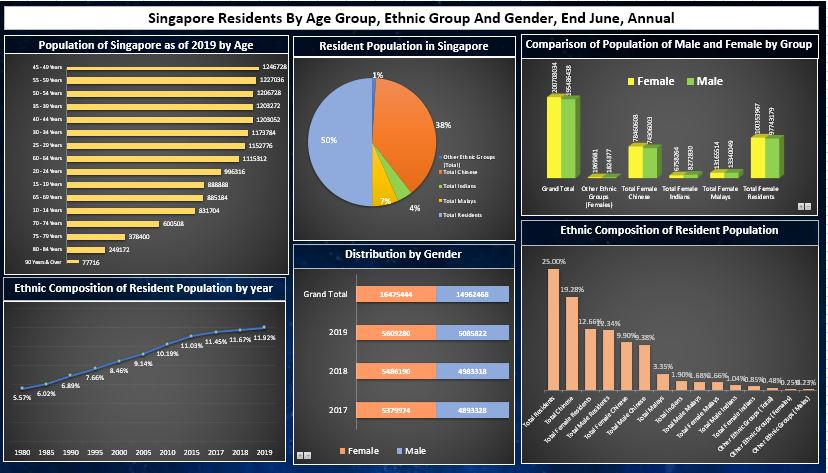

The dashboard page shown, as its layout file describes it:
{"tool":"powerbi","page":{"name":"Page 1","canvas":[1280,720],"ordinal":0},"visuals":[{"type":"hundredPercentStackedBarChart","fields":{"Category":["singapore-residents-by-ethnic-group-and-sex-end-june-annual.year"],"Y":["Sum(singapore-residents-by-ethnic-group-and-sex-end-june-annual.Count)"],"Series":["singapore-residents-by-ethnic-group-and-sex-end-june-annual.level_1 (groups)"]},"box":[217.4,535.7,354.2,184.3],"z":0},{"type":"textbox","box":[571.7,93.6,289.4,72],"z":1000},{"type":"pieChart","fields":{"Category":["singapore-residents-by-ethnic-group-and-sex-end-june-annual.level_1 (groups) 2"],"Y":["Sum(singapore-residents-by-ethnic-group-and-sex-end-june-annual.Count)"]},"box":[571,165,289.4,262.1],"z":2000},{"type":"textbox","box":[571.7,427.7,708.5,43.2],"z":3000},{"type":"barChart","fields":{"Category":["singapore-residents-by-ethnic-group-and-sex-end-june-annual.level_2"],"Y":["Sum(singapore-residents-by-ethnic-group-and-sex-end-june-annual.Count)"]},"box":[0,151.2,571.7,339.8],"z":4000},{"type":"stackedAreaChart","fields":{"Category":["singapore-residents-by-ethnic-group-and-sex-end-june-annual.year"],"Y":["Sum(singapore-residents-by-ethnic-group-and-sex-end-june-annual.Count)"]},"box":[571.7,470.9,708.5,249.1],"z":5000},{"type":"card","fields":{"Values":["Sum(singapore-residents-by-ethnic-group-and-sex-end-june-annual.Count)"]},"box":[0,491,217.4,229],"z":6000},{"type":"clusteredColumnChart","fields":{"Category":["singapore-residents-by-ethnic-group-and-sex-end-june-annual.level_1 (groups) 2"],"Y":["Sum(singapore-residents-by-ethnic-group-and-sex-end-june-annual.Count)"],"Series":["singapore-residents-by-ethnic-group-and-sex-end-june-annual.level_1 (groups)"]},"box":[861.1,165.6,419,262.1],"z":7000},{"type":"textbox","box":[0,0,1280.2,82.1],"z":8000},{"type":"textbox","box":[0,93.6,571.7,57.6],"z":9000},{"type":"textbox","box":[861.1,93.6,419,72],"z":10000},{"type":"textbox","box":[217.4,491,354.2,44.6],"z":11000}]}

Visuals, with their boxes in screenshot pixels (x1, y1, x2, y2), scaled from the page's 1280x720 canvas onto the 828x473 screenshot:
hundredPercentStackedBarChart - singapore-residents-by-ethnic-group-and-sex-end-june-annual.year x Sum(singapore-residents-by-ethnic-group-and-sex-end-june-annual.Count): Rect(141, 352, 370, 472)
textbox: Rect(370, 61, 557, 109)
pieChart - singapore-residents-by-ethnic-group-and-sex-end-june-annual.level_1 (groups) 2 x Sum(singapore-residents-by-ethnic-group-and-sex-end-june-annual.Count): Rect(369, 108, 557, 281)
textbox: Rect(370, 281, 827, 309)
barChart - singapore-residents-by-ethnic-group-and-sex-end-june-annual.level_2 x Sum(singapore-residents-by-ethnic-group-and-sex-end-june-annual.Count): Rect(0, 99, 370, 323)
stackedAreaChart - singapore-residents-by-ethnic-group-and-sex-end-june-annual.year x Sum(singapore-residents-by-ethnic-group-and-sex-end-june-annual.Count): Rect(370, 309, 827, 472)
card - Sum(singapore-residents-by-ethnic-group-and-sex-end-june-annual.Count): Rect(0, 323, 141, 472)
clusteredColumnChart - singapore-residents-by-ethnic-group-and-sex-end-june-annual.level_1 (groups) 2 x Sum(singapore-residents-by-ethnic-group-and-sex-end-june-annual.Count): Rect(557, 109, 827, 281)
textbox: Rect(0, 0, 827, 54)
textbox: Rect(0, 61, 370, 99)
textbox: Rect(557, 61, 827, 109)
textbox: Rect(141, 323, 370, 352)
